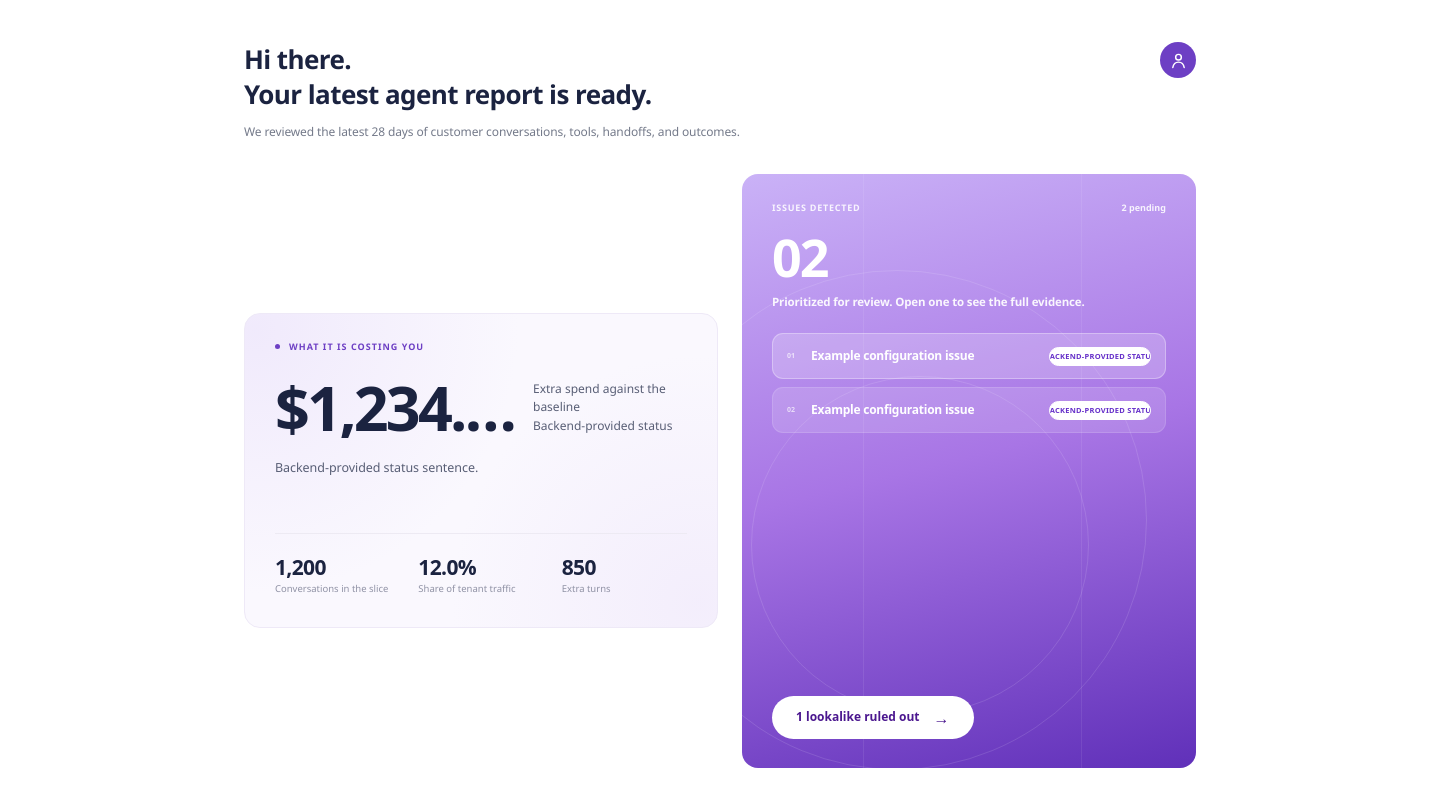
it: Nexus Loop overview › opens the selected issue bento without reordering or refetching
Click the button with aria-label "A lookup is not returning answers".
click(969, 410)  # box [772,387,1166,433]
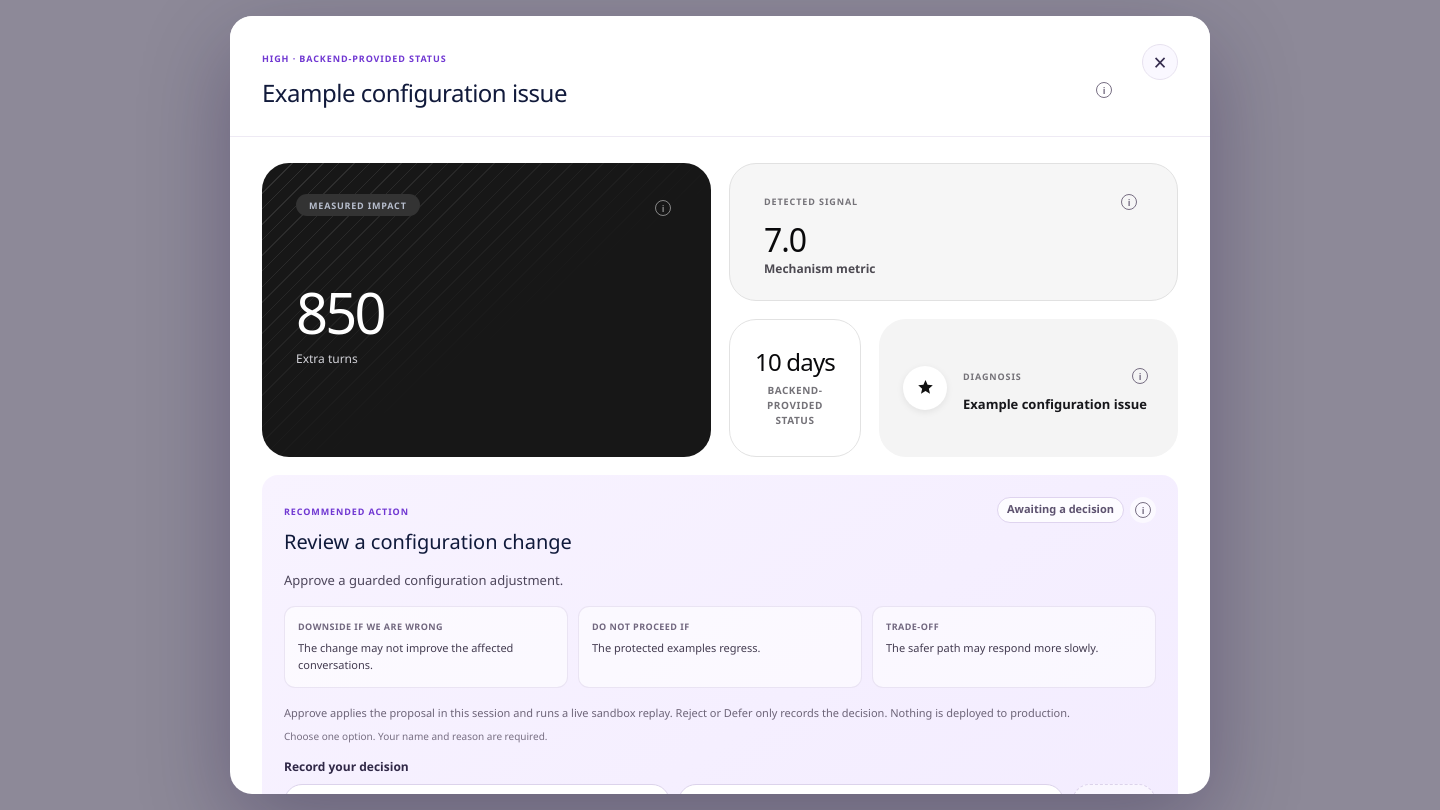
Expected: the button with aria-label "Days running: 10 days" is shown, [755,348,835,375]
Expected: the button named "Mechanism metric: 7.0" is shown, [764,223,806,258]
